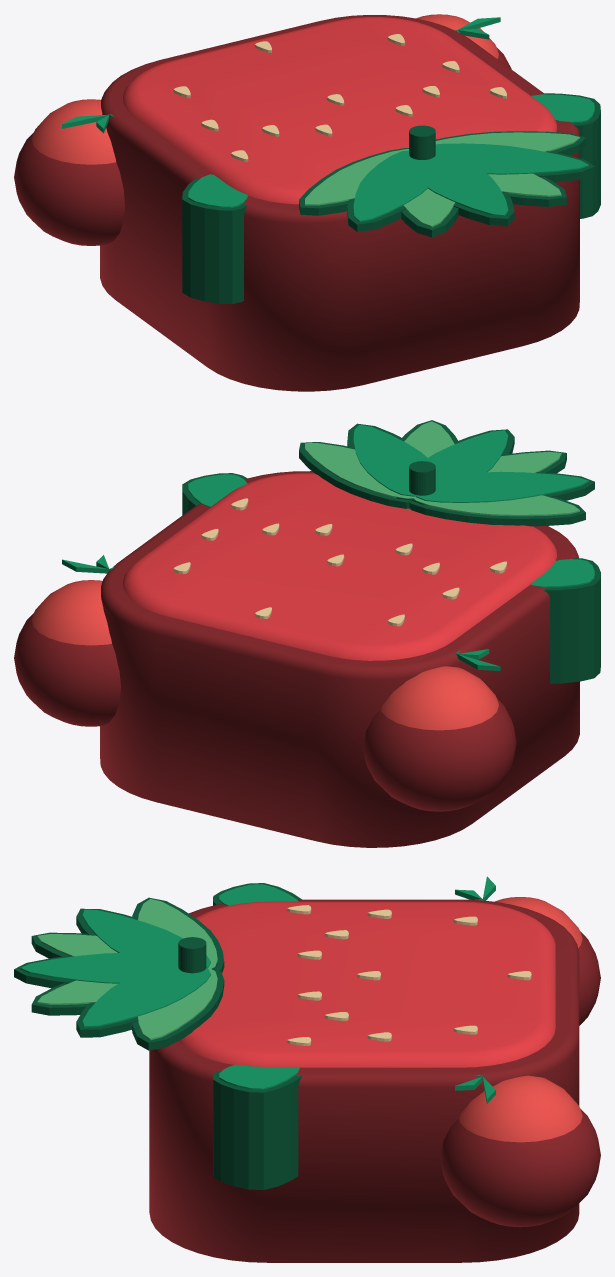
Rendered from body_morango.fbx.
3 views of the same model, one above another, from view 1: azimuth 30°, elevation 25°; view 2: azimuth 150°, elevation 25°; view 3: azimuth 270°, elevation 25° (orthographic). The views are drawn at different scales.
Parts seen in each view (by area): view 1: body_morango_corpo, body_morango_mao_esq, body_morango_mao; view 2: body_morango_corpo, body_morango_mao_esq, body_morango_mao; view 3: body_morango_corpo, body_morango_mao, body_morango_mao_esq.
Part boxes in pixels (x1,y1,x2,y2): body_morango_corpo: (100,15,600,391); body_morango_mao_esq: (14,99,124,245); body_morango_mao: (416,14,511,69); body_morango_corpo: (100,420,600,847); body_morango_mao_esq: (363,649,516,811); body_morango_mao: (14,555,120,726); body_morango_corpo: (14,883,579,1262); body_morango_mao: (440,1075,600,1227); body_morango_mao_esq: (455,876,600,1025).
Bounding box in the file's own units: 5.4 × 2.35 × 5.46.
Materials: 1 (1 with a texture image).
